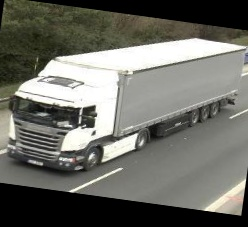truck: (3, 18, 243, 193)
